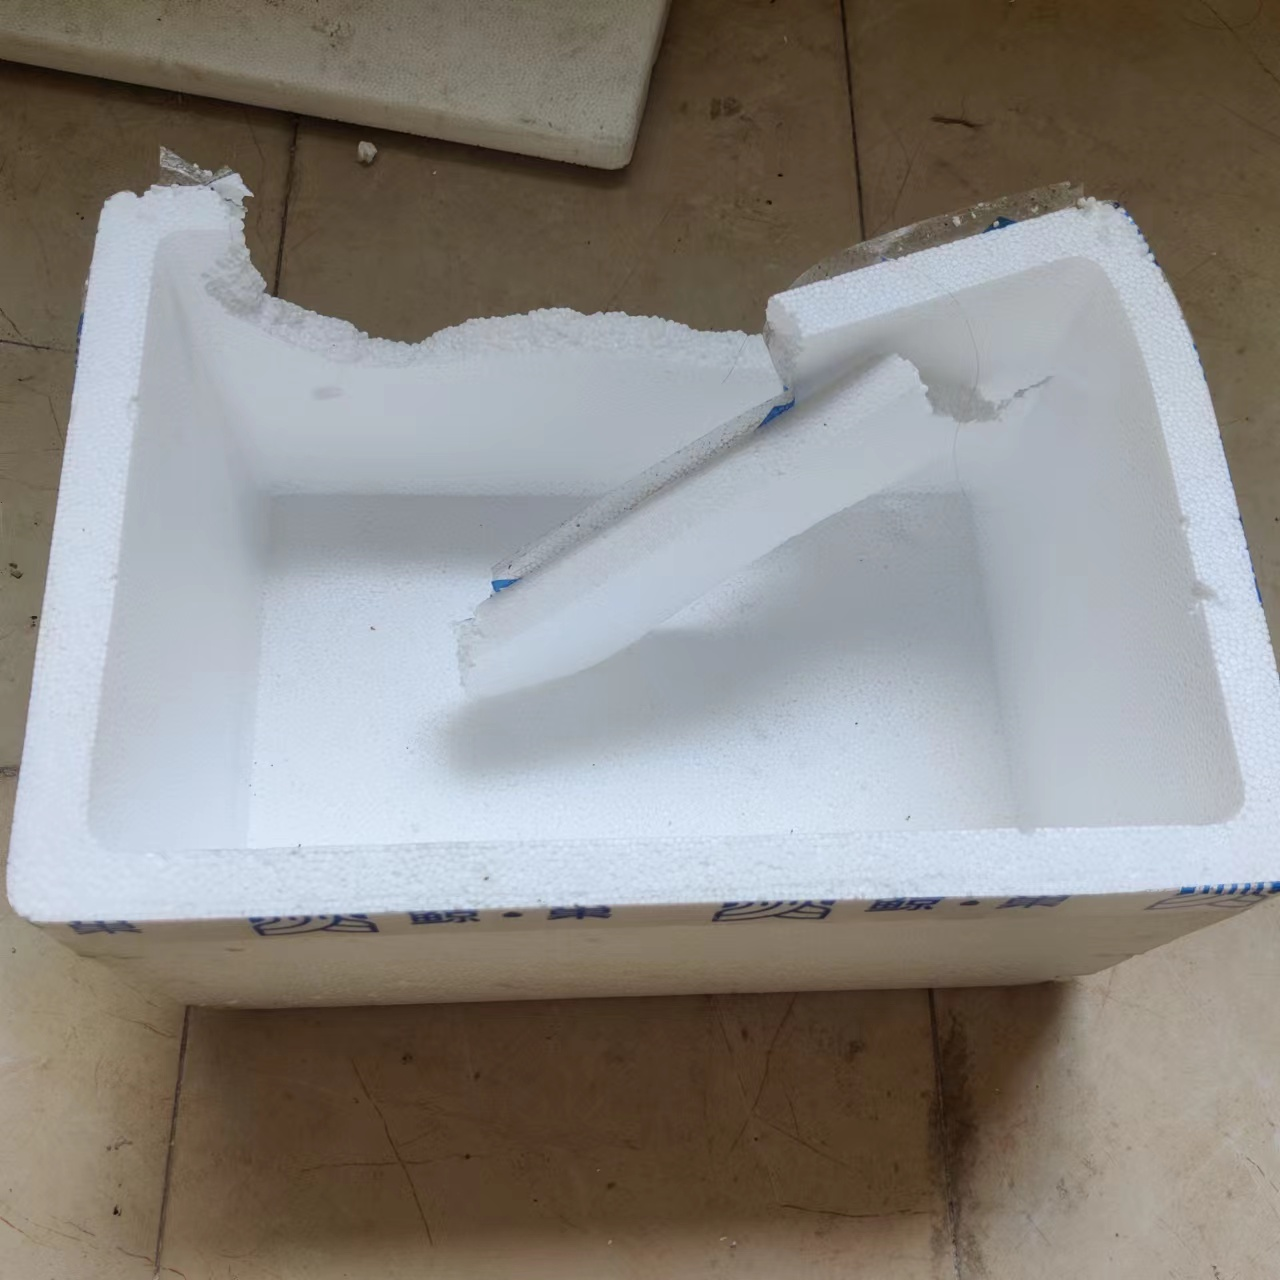5/可回收垃圾/泡沫: (2, 183, 1280, 1007), (1, 1, 675, 170)
